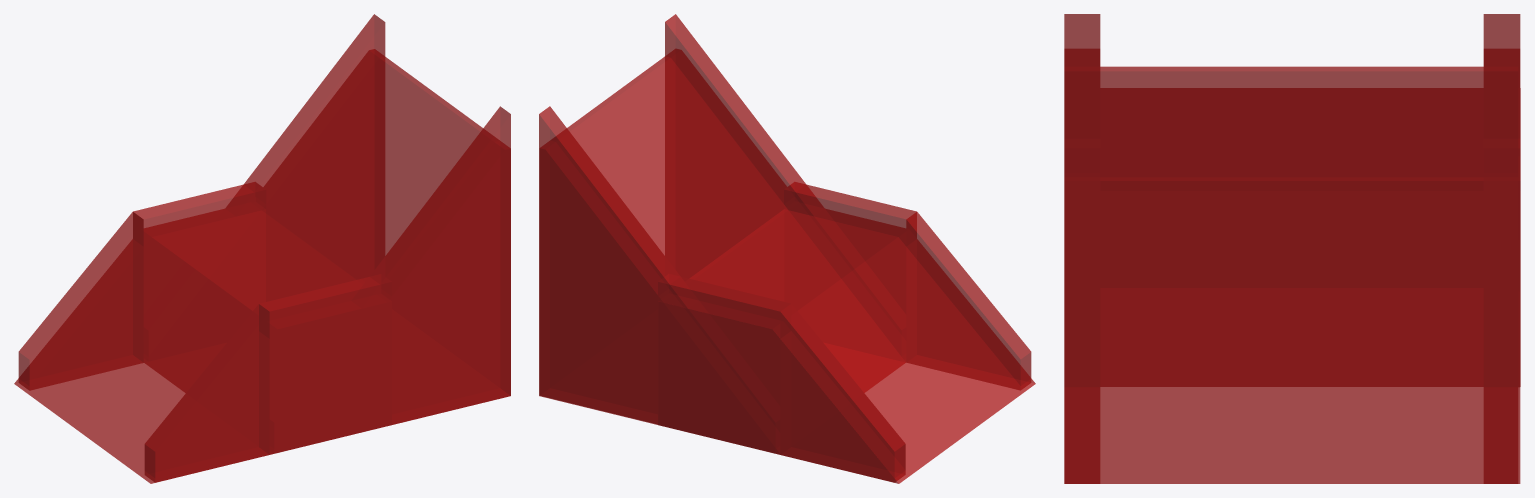
Rendered from SM_Bld_Stairs_Straight_Wide_Edges_03_Collision.fbx.
The picture shows the model from 3 angles, left to right: view 1: azimuth 30°, elevation 25°; view 2: azimuth 150°, elevation 25°; view 3: azimuth 270°, elevation 25°; orthographic projection. The views are drawn at different scales.
Visible parts, largest first — view 1: SM_Bld_Stairs_Straight_Wide_Edges_03_Collision; view 2: SM_Bld_Stairs_Straight_Wide_Edges_03_Collision; view 3: SM_Bld_Stairs_Straight_Wide_Edges_03_Collision.
Boxes of the visible parts, bbox=[...] form: SM_Bld_Stairs_Straight_Wide_Edges_03_Collision: bbox=[14, 14, 510, 483]; SM_Bld_Stairs_Straight_Wide_Edges_03_Collision: bbox=[539, 14, 1035, 483]; SM_Bld_Stairs_Straight_Wide_Edges_03_Collision: bbox=[1064, 14, 1520, 483].
Bounding box in the file's own units: 761 × 570 × 501.
